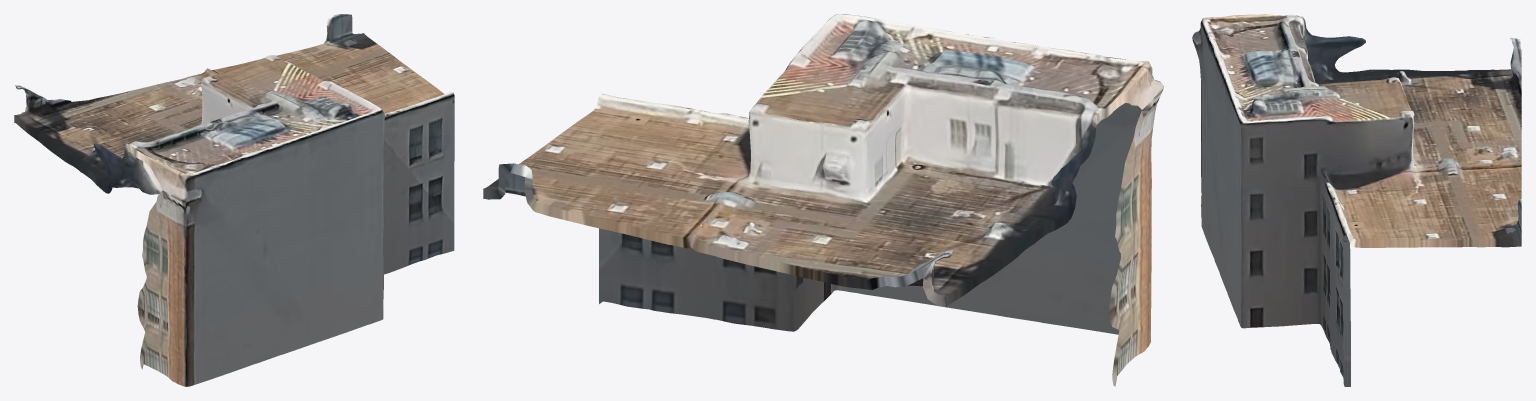
Rendered from z20-167758-405237-h1-yup-uvflip-v3-world.glb.
3 renders of one model, left to right at view 1: azimuth 30°, elevation 25°; view 2: azimuth 150°, elevation 25°; view 3: azimuth 270°, elevation 25°, orthographic. The views are drawn at different scales.
Bounding box in the file's own units: 30.16 × 18.44 × 25.16.
1 material, 1 textured.
